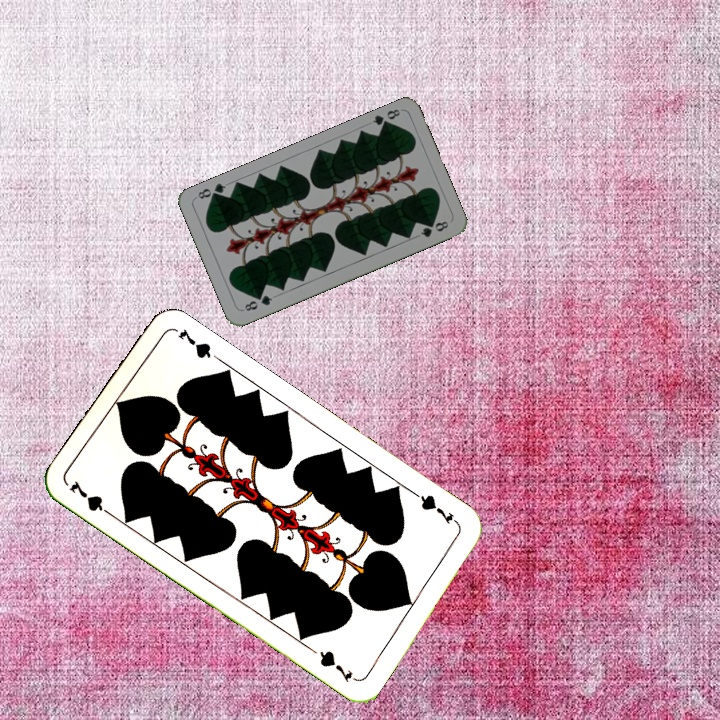G7: (65, 476, 117, 520), (410, 489, 462, 528)
G8: (368, 105, 403, 131), (240, 291, 275, 314)
